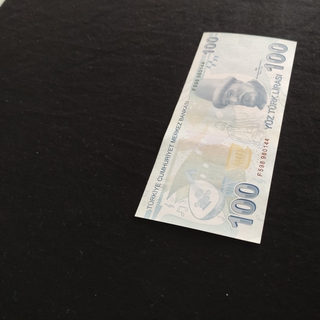100TLBack: (134, 31, 298, 244)
